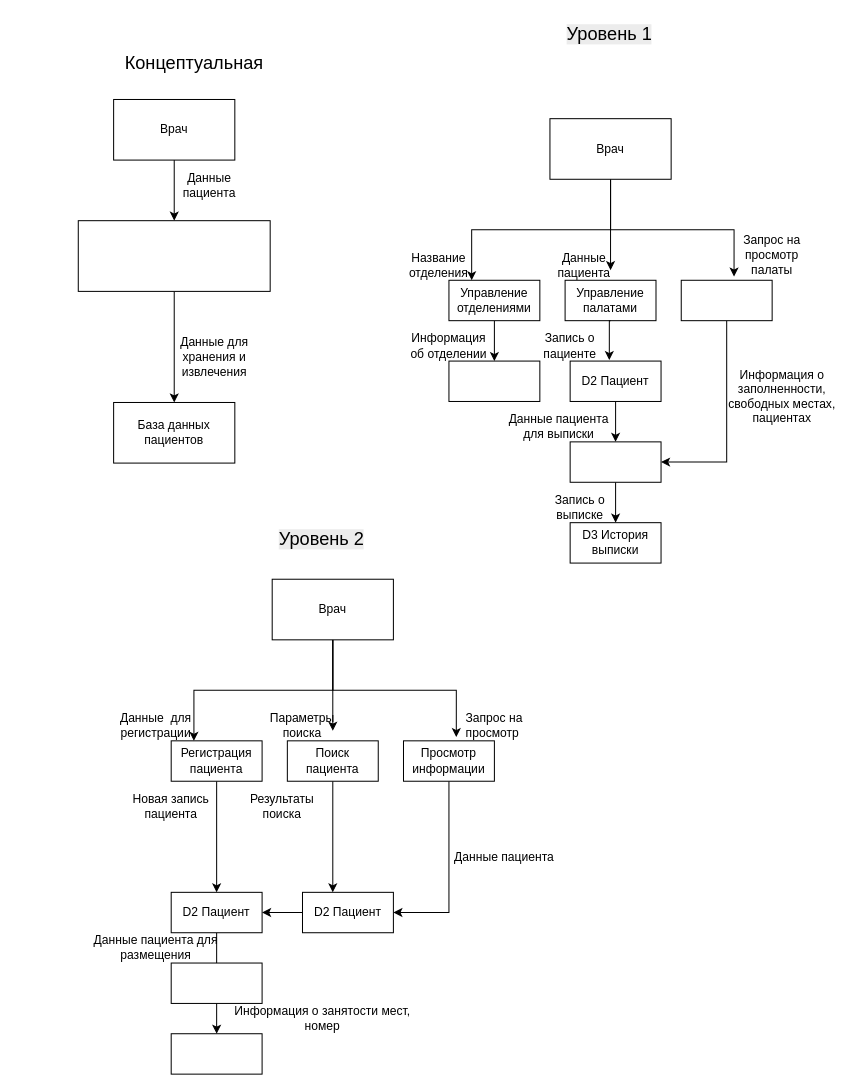
This 860x1092 diagram has some shape labels left out. The centre of each missing label's shape, as x and y in pixels:
D1 Отделения: the point at 494,380
D4 Палаты: the point at 216,1053
Выписка пациента: the point at 615,461
Информационная система больницы: the point at 173,255
Просмотр палат: the point at 726,300
Размещение в палату: the point at 216,982
